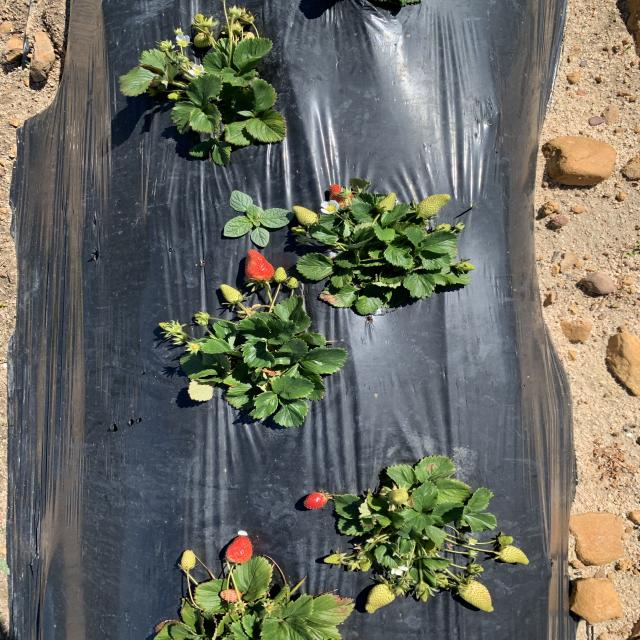unripe: (238, 248, 274, 282), (222, 535, 255, 565), (330, 183, 356, 211), (301, 492, 330, 509)
